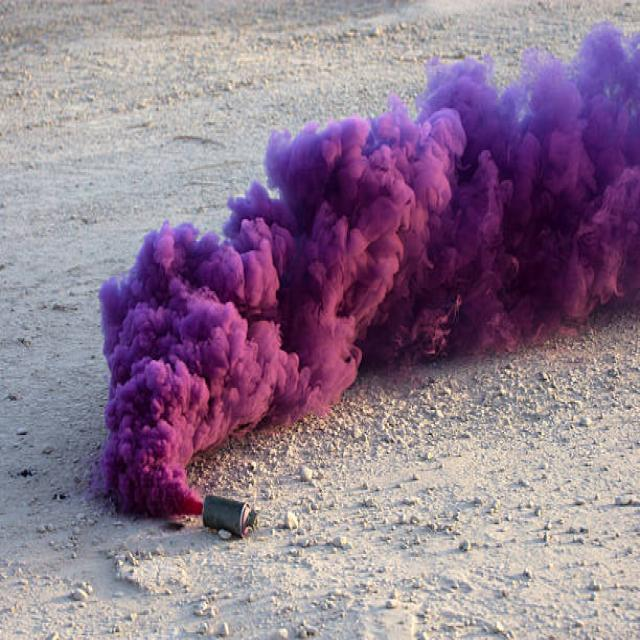grenade: (198, 493, 265, 542)
